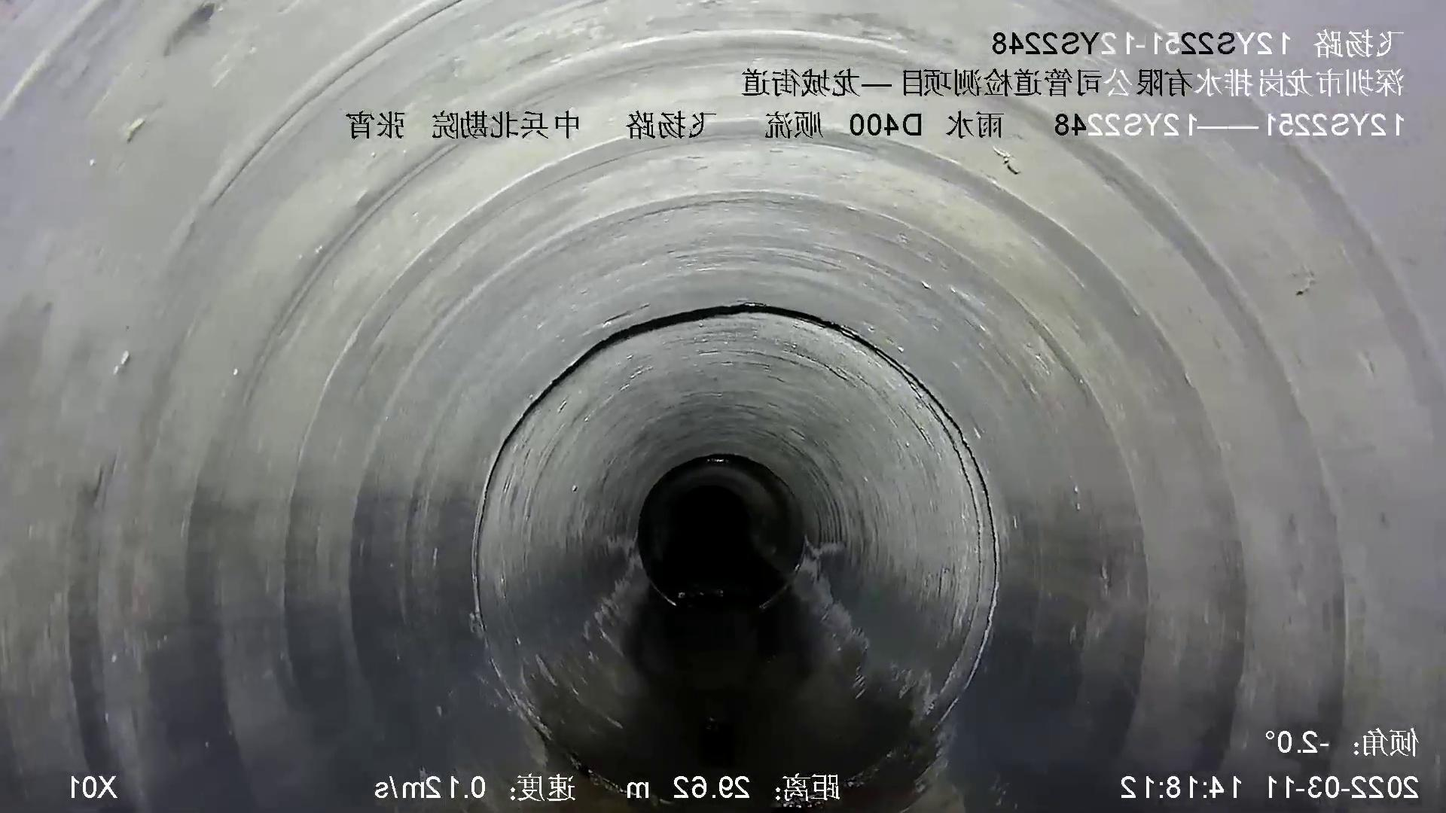CKTJ: (471, 302, 1001, 724)
